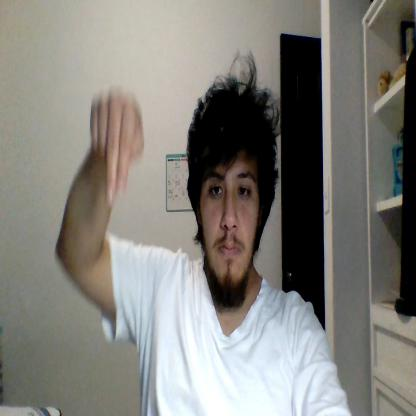N: (91, 88, 145, 206)
